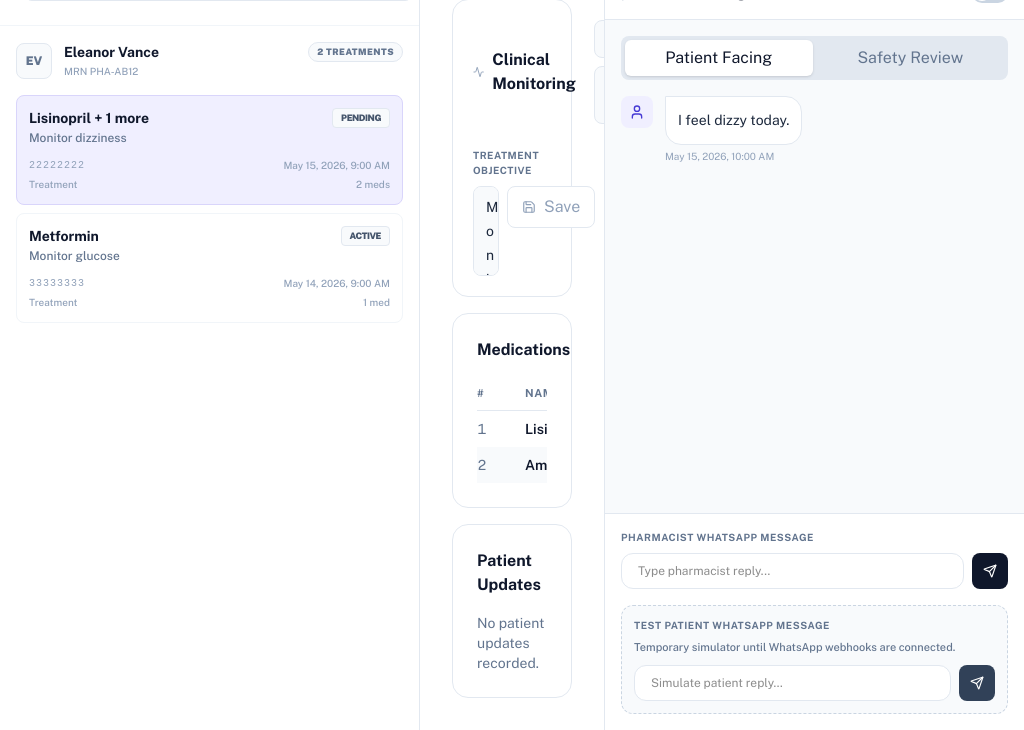
Test: PatientManagementPage › submits an incoming WhatsApp message and refreshes the thread
(page scrolled)
Expected: the text "I feel dizzy today." is shown, [678,109,789,132]
Type "Can I stop the medicine?" into the field labelled "Test Patient WhatsApp Message".
click(792, 683); type("Can I stop the medicine?")  # box [634,665,951,701]
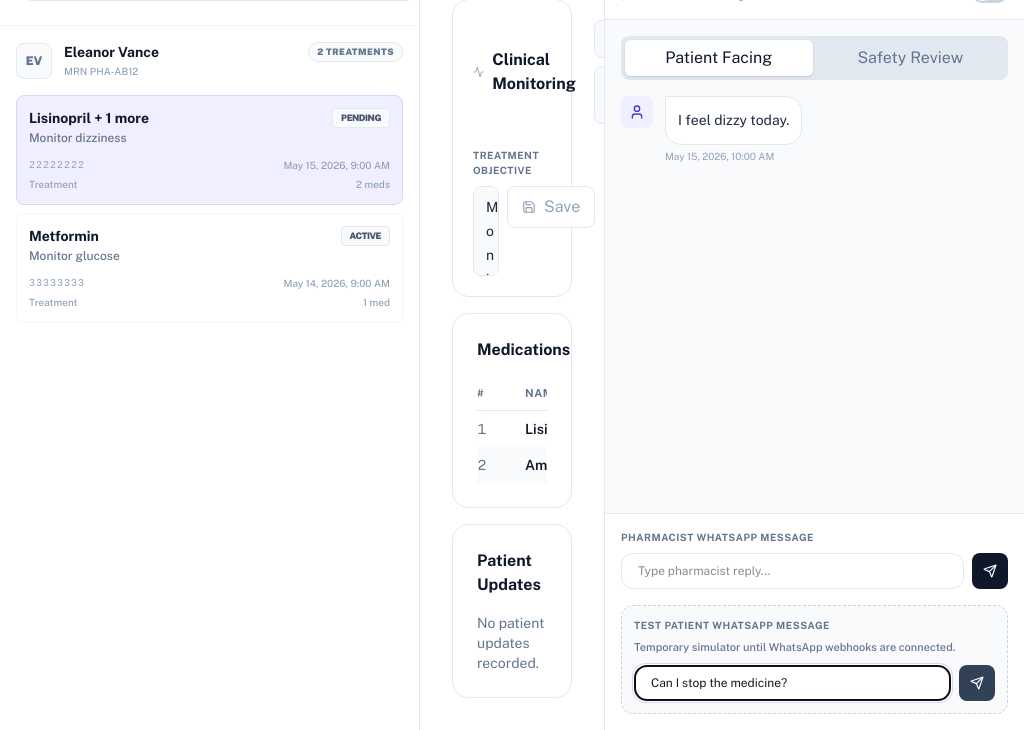
Click the button named "process test patient message".
click(977, 683)  # box [959,665,995,701]
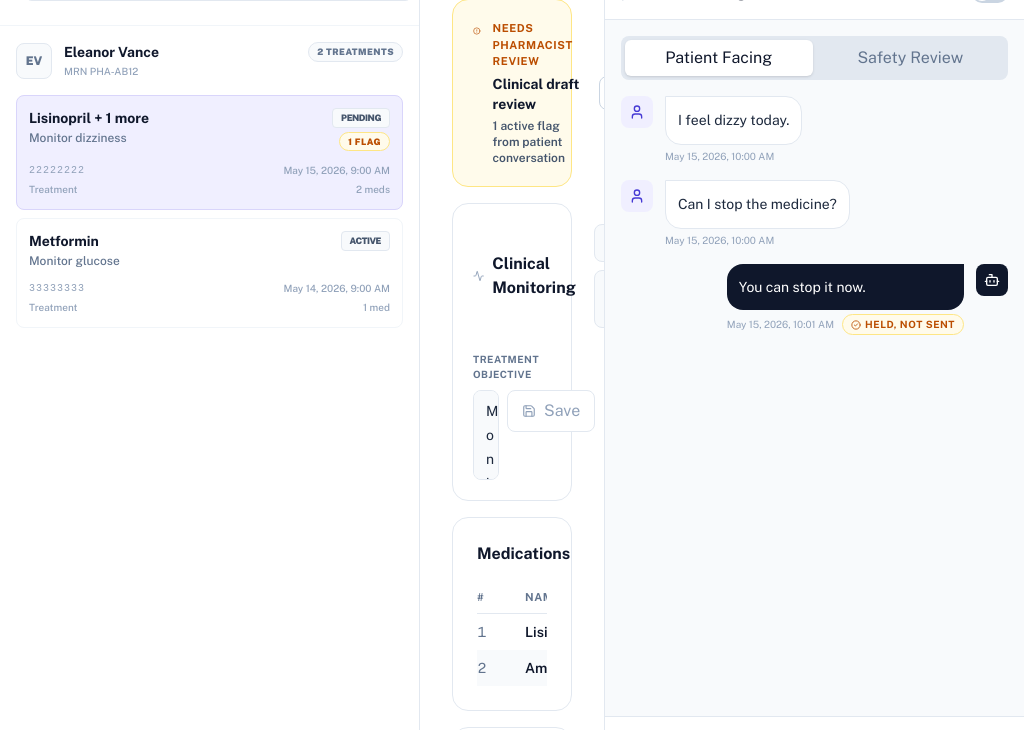
Now the text "You can stop it now." is shown, box [739,278,866,294]
Now the text "Held, not sent" is shown, box [842,314,964,335]
Now the text "1 flag" is shown, box [339,132,390,151]
